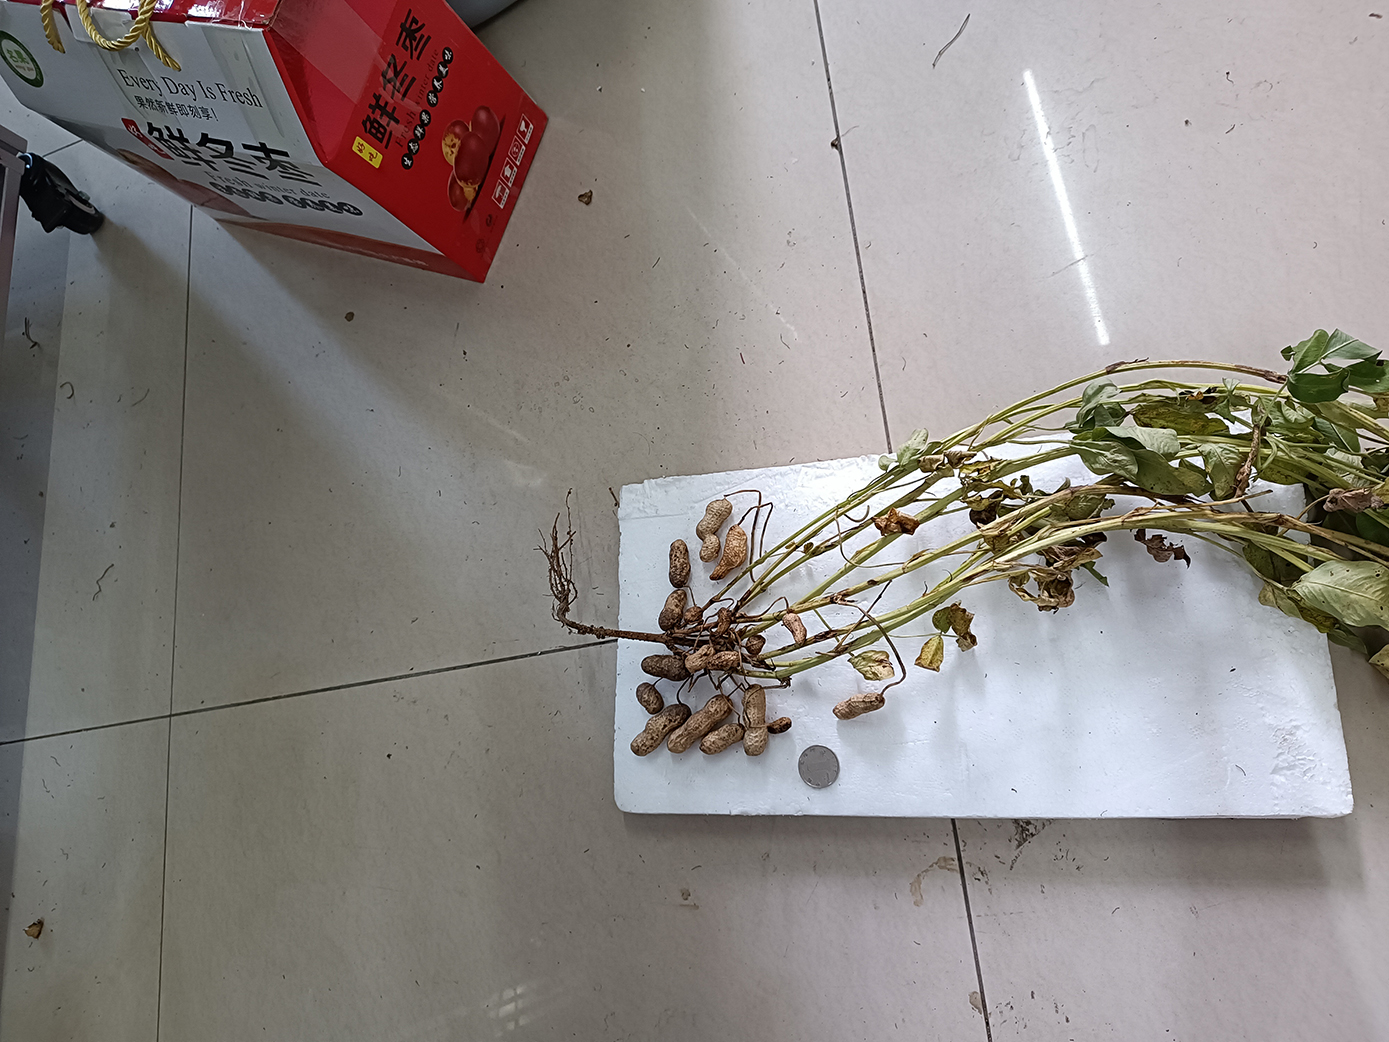h: (668, 695, 733, 753), (630, 705, 691, 757), (696, 498, 733, 563), (708, 526, 746, 581), (743, 685, 766, 756), (833, 693, 886, 721), (699, 723, 744, 753), (659, 590, 683, 634), (635, 682, 665, 713), (782, 611, 808, 646), (687, 645, 711, 673), (709, 649, 739, 668), (766, 717, 792, 734), (717, 607, 732, 637), (683, 606, 705, 626)
l: (640, 655, 688, 682), (668, 539, 691, 588), (746, 635, 765, 655)
